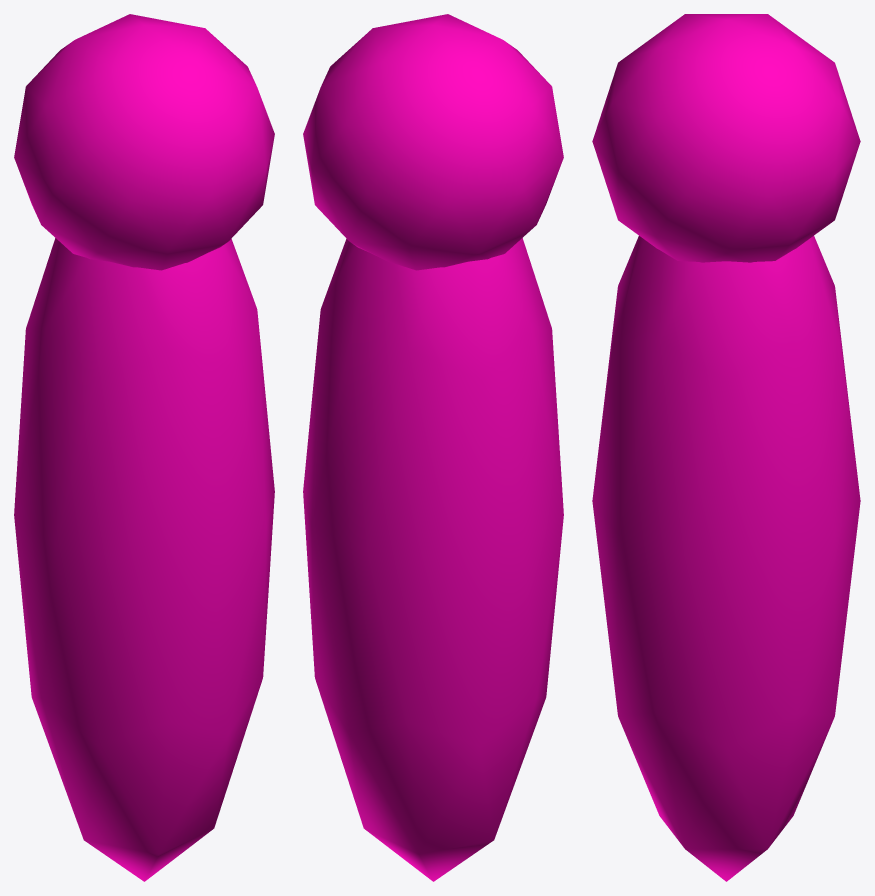
The model's file is TestPlayer.fbx.
3 renders of one model, left to right at view 1: azimuth 30°, elevation 25°; view 2: azimuth 150°, elevation 25°; view 3: azimuth 270°, elevation 25°, orthographic.
Visible parts, largest first — view 1: ICO球.001, ICO球; view 2: ICO球.001, ICO球; view 3: ICO球.001, ICO球.
Boxes of the visible parts, x1=… form: ICO球.001: x1=14, y1=238, x2=274, y2=881; ICO球: x1=14, y1=14, x2=274, y2=270; ICO球.001: x1=303, y1=238, x2=563, y2=881; ICO球: x1=303, y1=14, x2=563, y2=270; ICO球.001: x1=592, y1=236, x2=860, y2=881; ICO球: x1=592, y1=14, x2=860, y2=262.
Size of the model in its own units: 0.449 by 1.67 by 0.4721.
